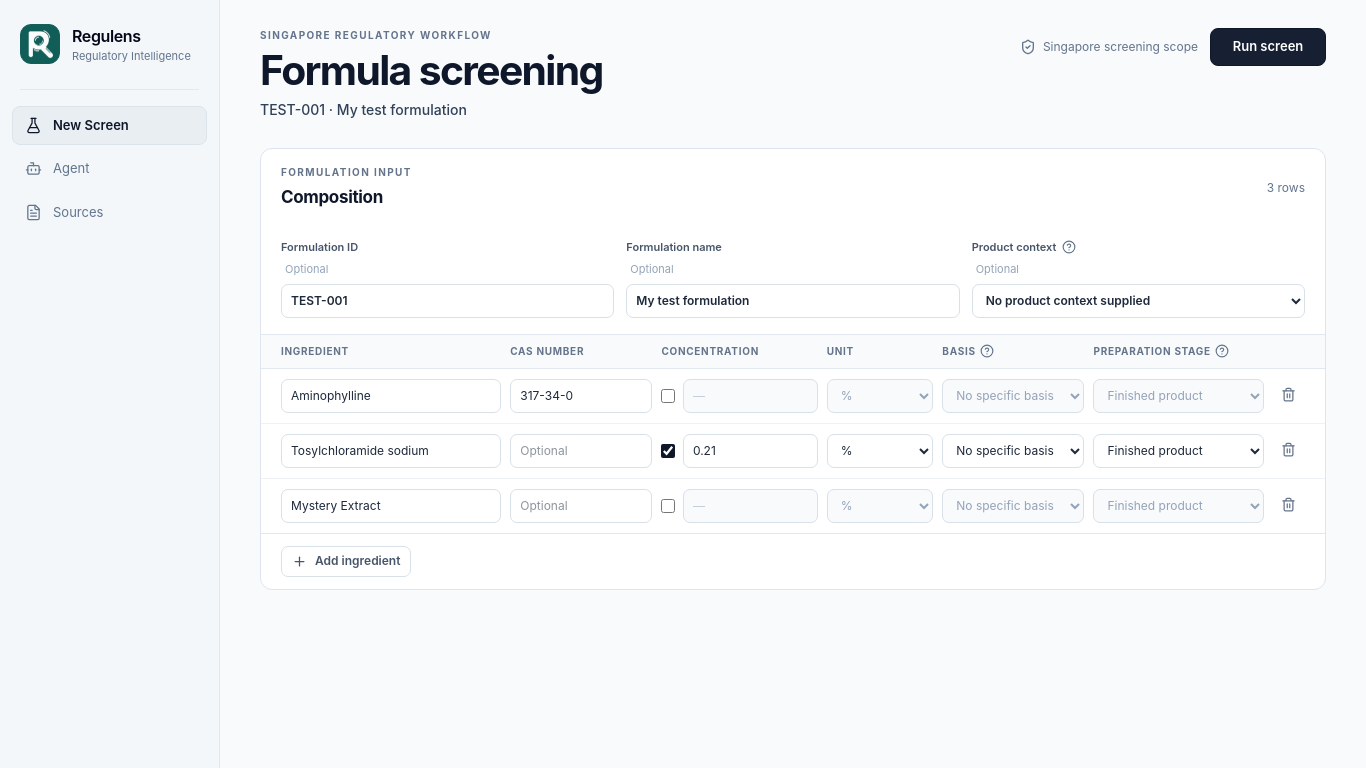
formula screening vertical slice › sends null while concentration is disabled and exposes defaults when enabled
This screenshot has width=1366, height=768.
Expected: the button "Run screen" is enabled, x1=1210 y1=28 x2=1326 y2=66
What coordinates should you click on to do the following:
click the checkbox named "Enable concentration for ingredient 1"
I would click on:
 (668, 396)
Its box is x1=661 y1=388 x2=675 y2=404.
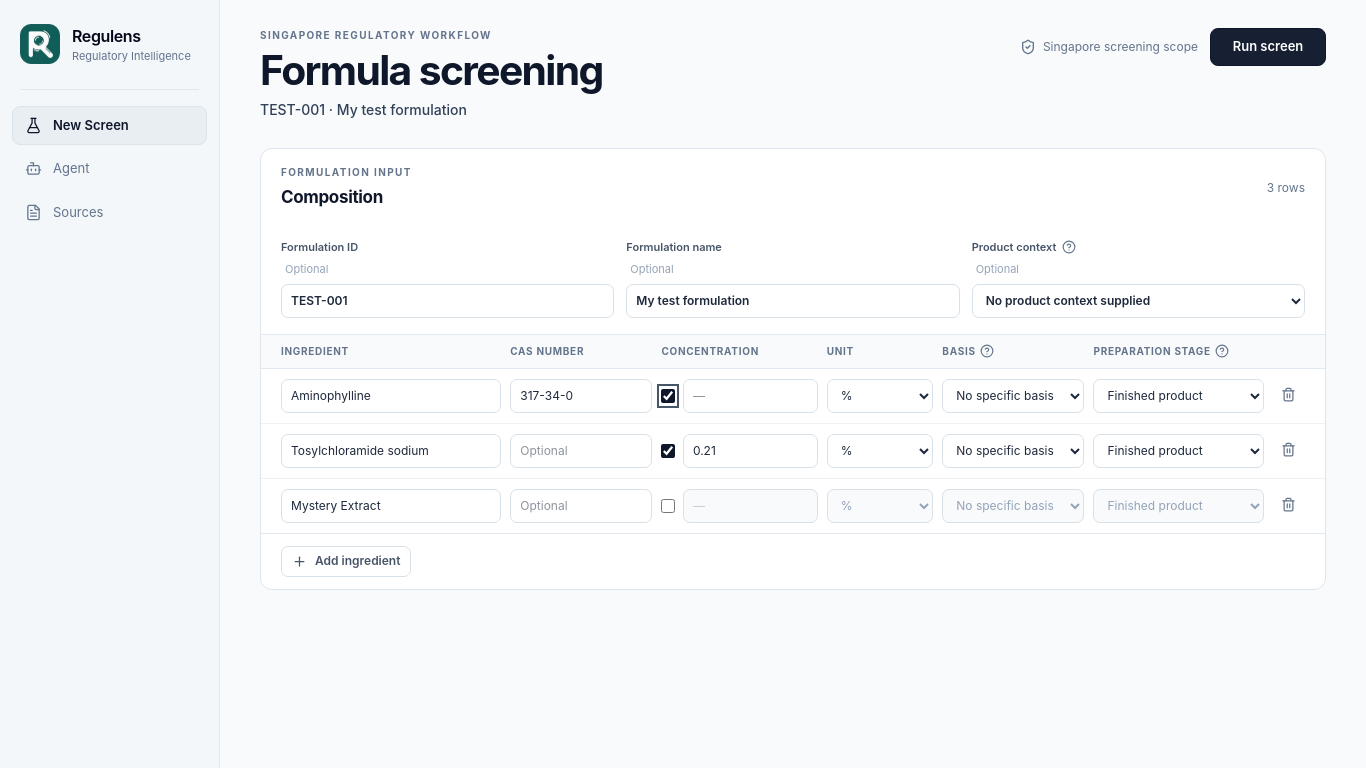
Expected: the dropdown named "Ingredient 1 concentration unit" shows "%", x1=827 y1=378 x2=933 y2=412
Expected: the dropdown named "Ingredient 1 concentration basis" shows "No specific basis", x1=942 y1=378 x2=1084 y2=412
What coordinates should you click on to do the following:
click the checkbox named "Enable concentration for ingredient 1"
I would click on:
 (668, 396)
Its box is x1=661 y1=388 x2=675 y2=404.
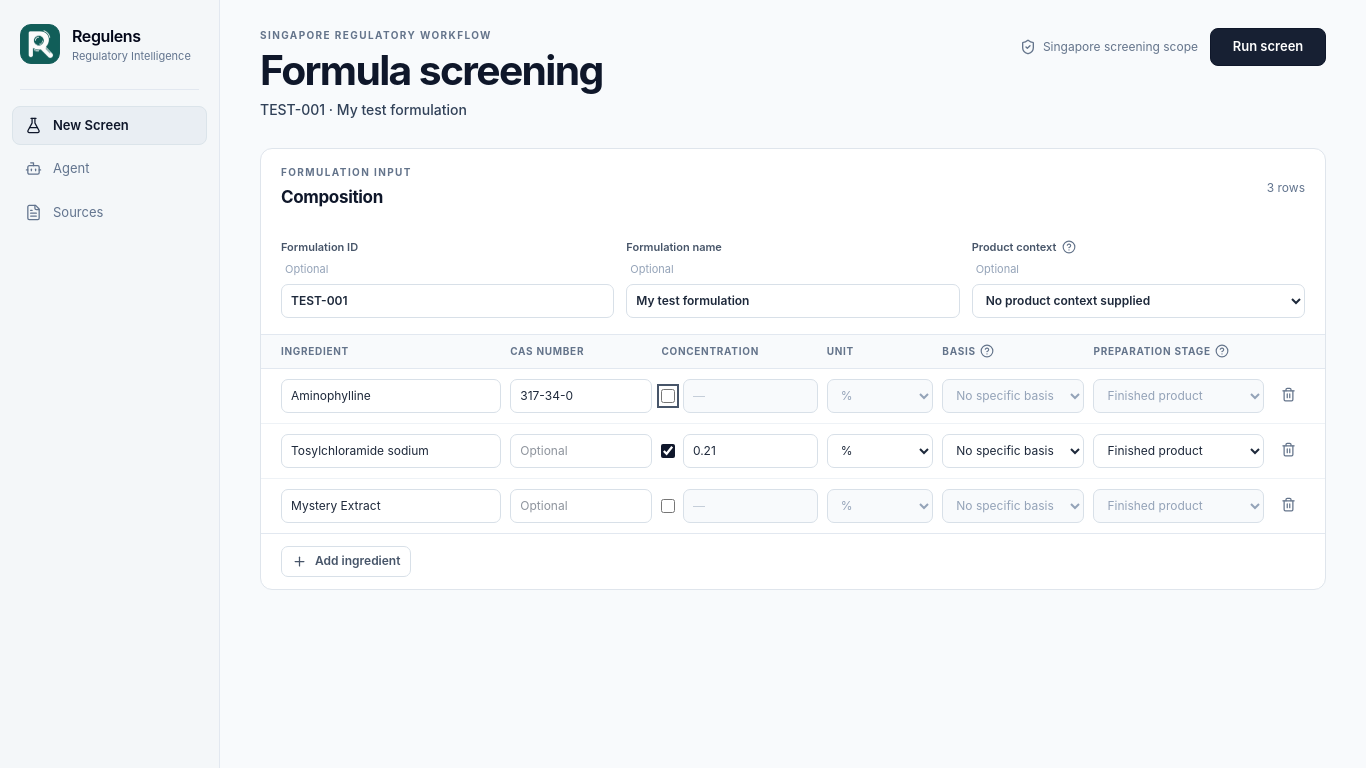
What coordinates should you click on to do the following:
click the button "Run screen"
I would click on:
 (1268, 47)
Its box is x1=1210 y1=28 x2=1326 y2=66.
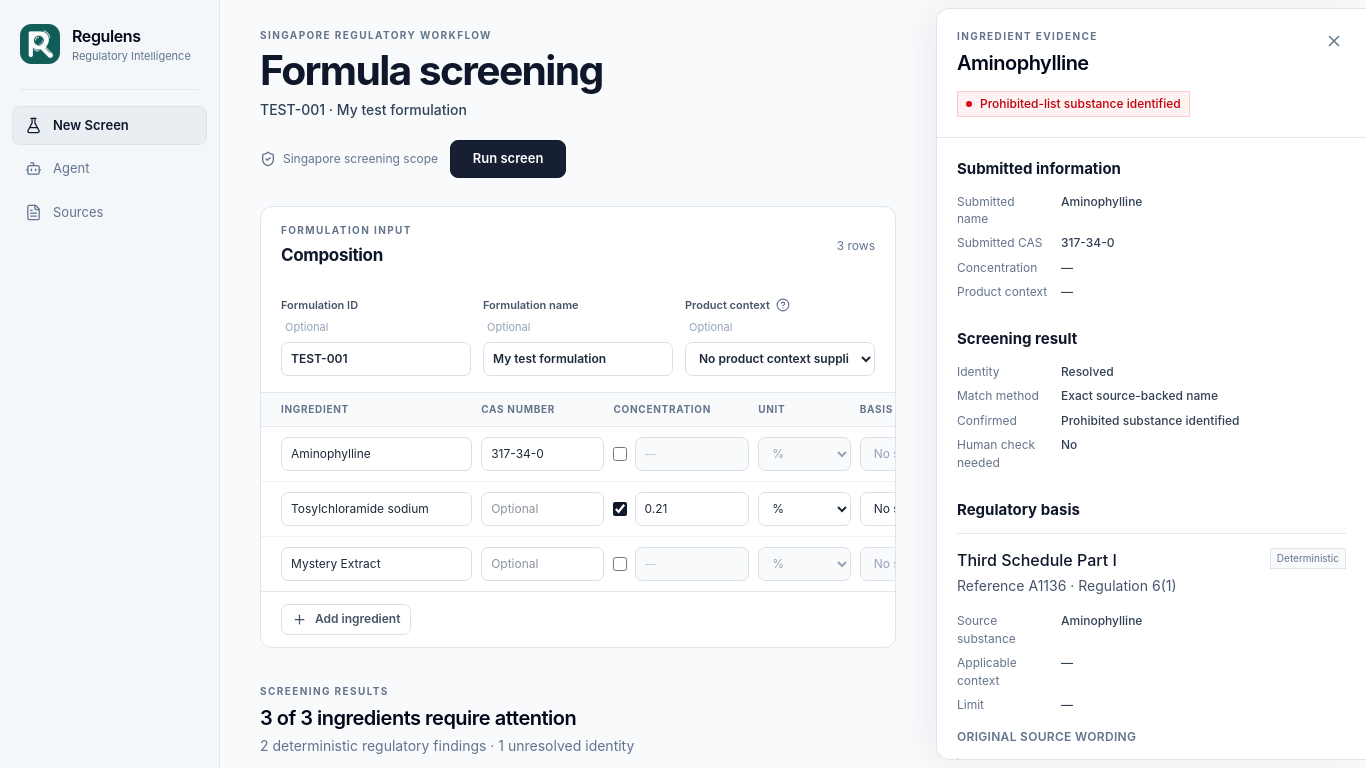
Result: the heading "3 of 3 ingredients require attention" is shown at x1=260 y1=706 x2=576 y2=730
